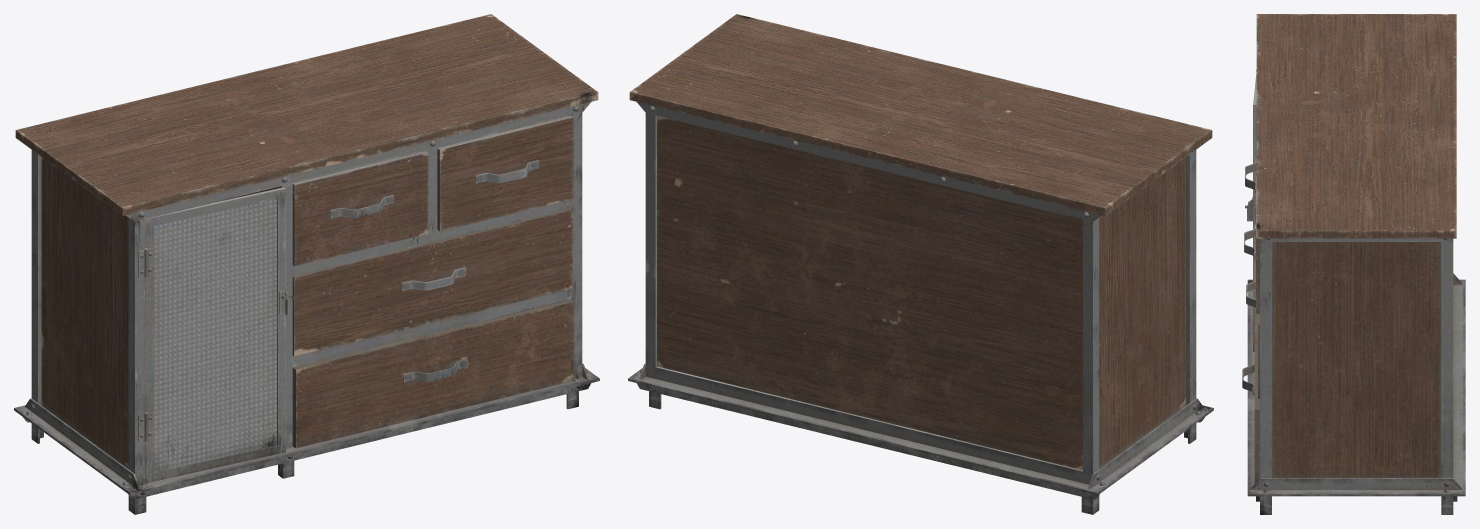
File: Wooden Table 03.glb
The picture shows the model from 3 angles, left to right: view 1: azimuth 30°, elevation 25°; view 2: azimuth 150°, elevation 25°; view 3: azimuth 270°, elevation 25°; orthographic projection. The views are drawn at different scales.
Visible parts, largest first — view 1: WoodenTable_03_body, WoodenTable_03_door, WoodenTable_03_drawer04, WoodenTable_03_drawer03, WoodenTable_03_drawer02, WoodenTable_03_drawer01; view 2: WoodenTable_03_body; view 3: WoodenTable_03_body, WoodenTable_03_drawer04, WoodenTable_03_door, WoodenTable_03_drawer02, WoodenTable_03_drawer03.
Part boxes in pixels (box(x1,y1,x2,y2)): WoodenTable_03_body: box(14, 14, 599, 514); WoodenTable_03_door: box(144, 187, 293, 483); WoodenTable_03_drawer04: box(292, 299, 574, 448); WoodenTable_03_drawer03: box(292, 209, 572, 356); WoodenTable_03_drawer02: box(437, 115, 573, 231); WoodenTable_03_drawer01: box(292, 151, 428, 266); WoodenTable_03_body: box(628, 14, 1213, 514); WoodenTable_03_body: box(1247, 14, 1465, 514); WoodenTable_03_drawer04: box(1242, 289, 1259, 483); WoodenTable_03_door: box(1245, 69, 1256, 351); WoodenTable_03_drawer02: box(1244, 176, 1259, 313); WoodenTable_03_drawer03: box(1246, 281, 1259, 398).
Size of the model in its own units: 1.33 by 0.8301 by 0.5753.
1 material, 1 textured.
